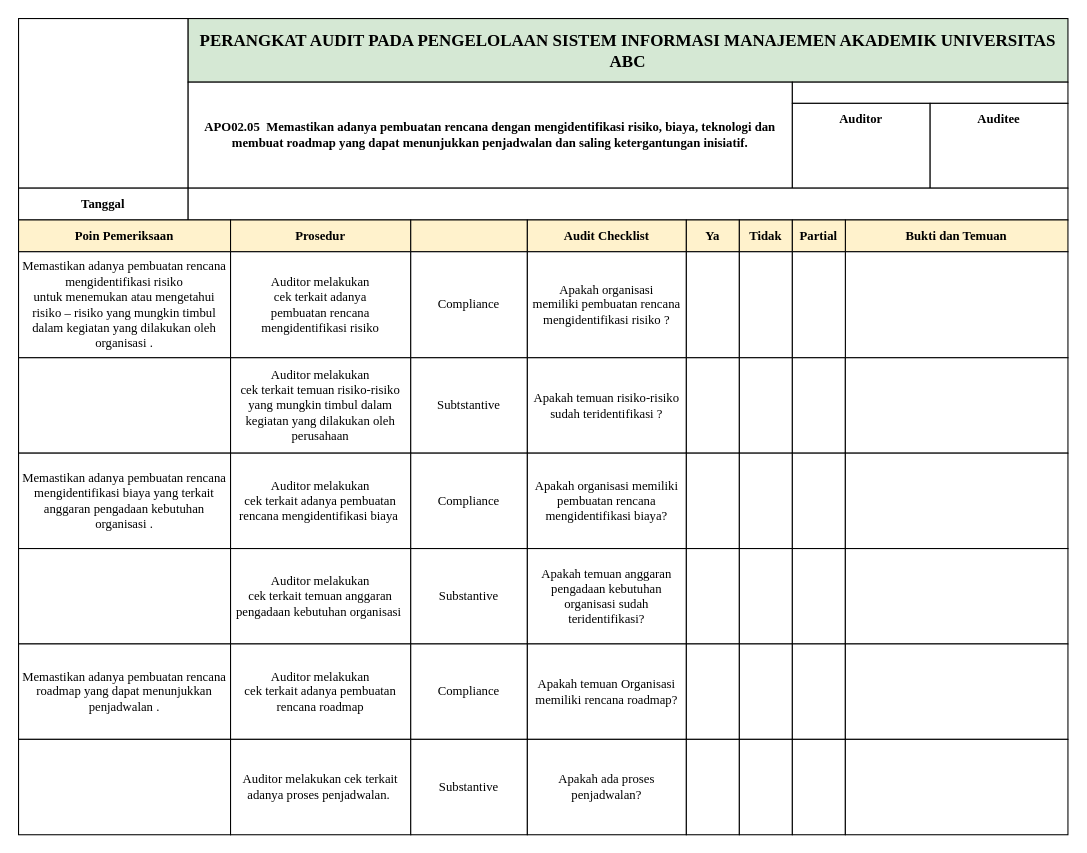
This 1087x853 diagram has some shape labels left out. The centre of each missing label's shape, as x and y in pixels:
"[Logo]" goes at (102,102).
"Jenis Testing" goes at (468,235).
"PA01.05" goes at (929,92).
